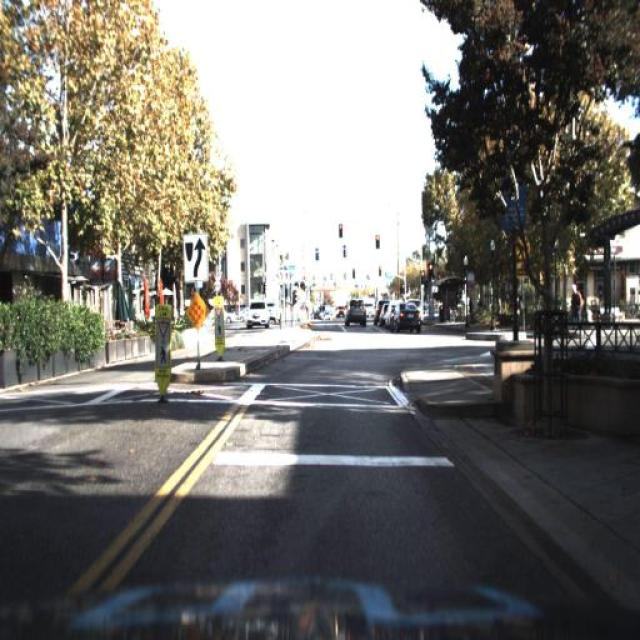car: (392, 297, 422, 337), (244, 293, 270, 331), (342, 296, 367, 329), (269, 302, 281, 328)
trafficLight: (568, 267, 588, 343)
trafficLight-RedLeft: (372, 230, 383, 256), (334, 219, 346, 241), (418, 262, 428, 288), (428, 255, 438, 277)
